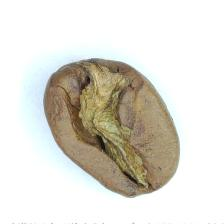NG: (64, 61, 159, 183)
